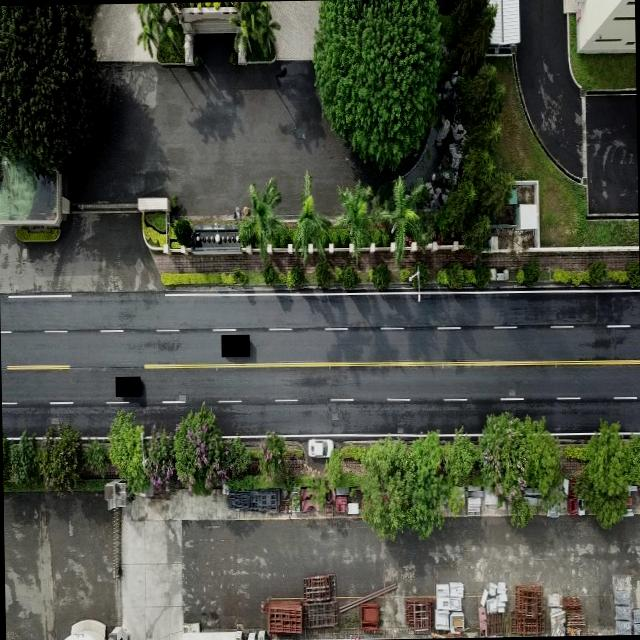car: (306, 434, 332, 461)
